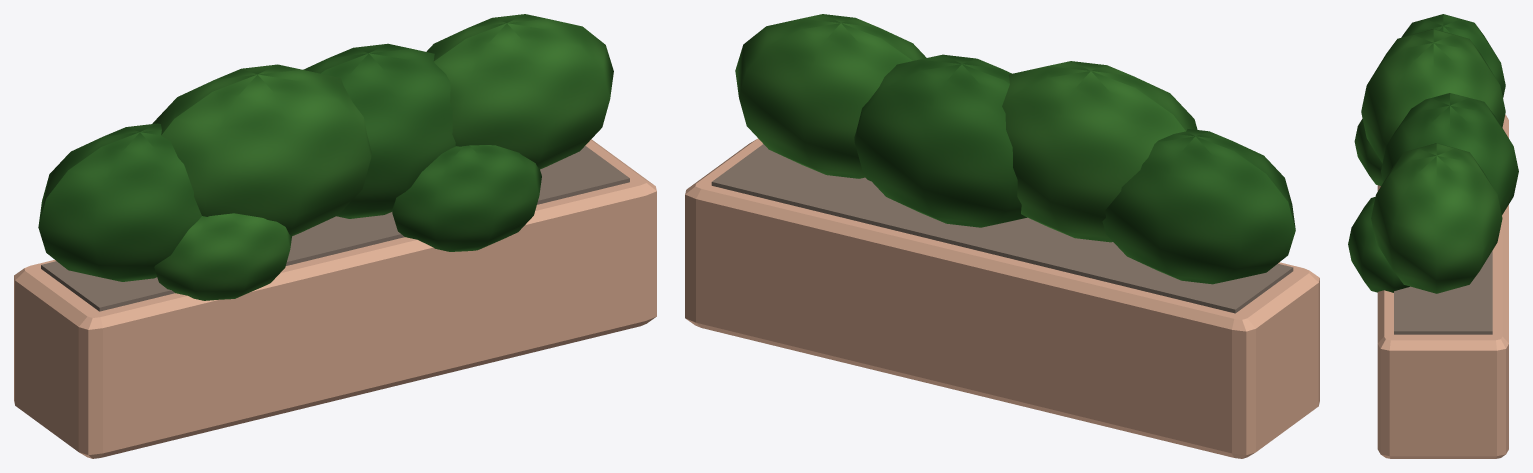
File: balcony_planter_greenery.glb
3 renders of one model, left to right at view 1: azimuth 30°, elevation 25°; view 2: azimuth 150°, elevation 25°; view 3: azimuth 270°, elevation 25°, orthographic. The views are drawn at different scales.
Parts seen in each view (by area): view 1: balcony_planter_greenery_terracottaPot, balcony_planter_greenery_foliageLight, balcony_planter_greenery_foliageDark, balcony_planter_greenery_soilDark; view 2: balcony_planter_greenery_terracottaPot, balcony_planter_greenery_foliageDark, balcony_planter_greenery_foliageLight, balcony_planter_greenery_soilDark; view 3: balcony_planter_greenery_foliageLight, balcony_planter_greenery_terracottaPot, balcony_planter_greenery_foliageDark, balcony_planter_greenery_soilDark.
Boxes of the visible parts, x1,y1,x2,y2 form: balcony_planter_greenery_terracottaPot: [14, 139, 656, 458]; balcony_planter_greenery_foliageLight: [152, 14, 613, 300]; balcony_planter_greenery_foliageDark: [38, 43, 541, 281]; balcony_planter_greenery_soilDark: [41, 145, 629, 311]; balcony_planter_greenery_terracottaPot: [685, 138, 1319, 458]; balcony_planter_greenery_foliageDark: [854, 54, 1295, 284]; balcony_planter_greenery_foliageLight: [735, 14, 1197, 242]; balcony_planter_greenery_soilDark: [711, 144, 1293, 313]; balcony_planter_greenery_foliageLight: [1354, 29, 1505, 293]; balcony_planter_greenery_terracottaPot: [1377, 115, 1508, 458]; balcony_planter_greenery_foliageDark: [1348, 14, 1518, 292]; balcony_planter_greenery_soilDark: [1394, 251, 1492, 334].
Size of what is drawn, in the model's own units: 1.2 by 0.62 by 0.36.
Materials: 4 (2 with a texture image).
